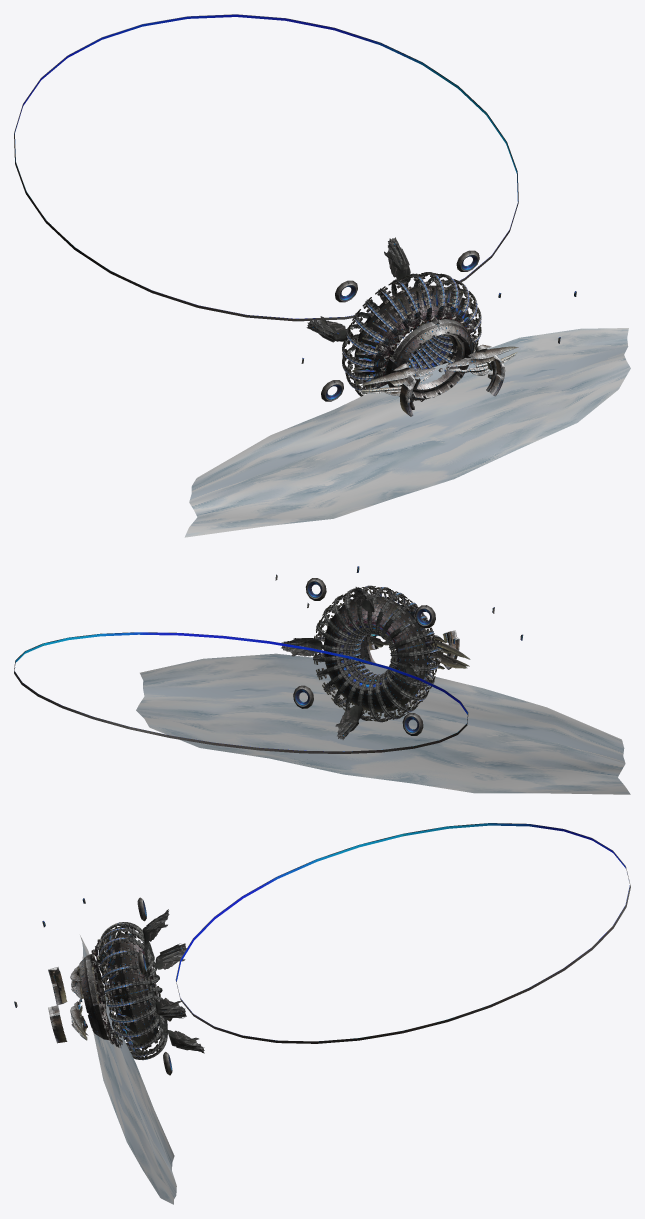
Rendered from eba003_psid.glb.
The picture shows the model from 3 angles, top to bottom: view 1: azimuth 30°, elevation 25°; view 2: azimuth 150°, elevation 25°; view 3: azimuth 270°, elevation 25°; orthographic projection. The views are drawn at different scales.
Parts seen in each view (by area): view 1: eba003_psid; view 2: eba003_psid; view 3: eba003_psid.
Boxes of the visible parts, bbox=[...] form: eba003_psid: bbox=[14, 14, 630, 537]; eba003_psid: bbox=[14, 566, 630, 794]; eba003_psid: bbox=[14, 823, 630, 1204].
Bounding box in the file's own units: 90.56 × 45.7 × 106.
11 materials, 11 textured.
